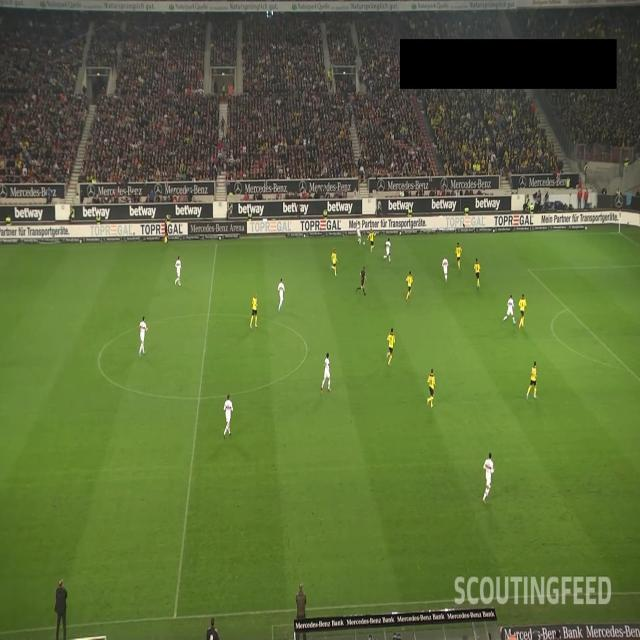ball: (362, 241, 366, 246)
